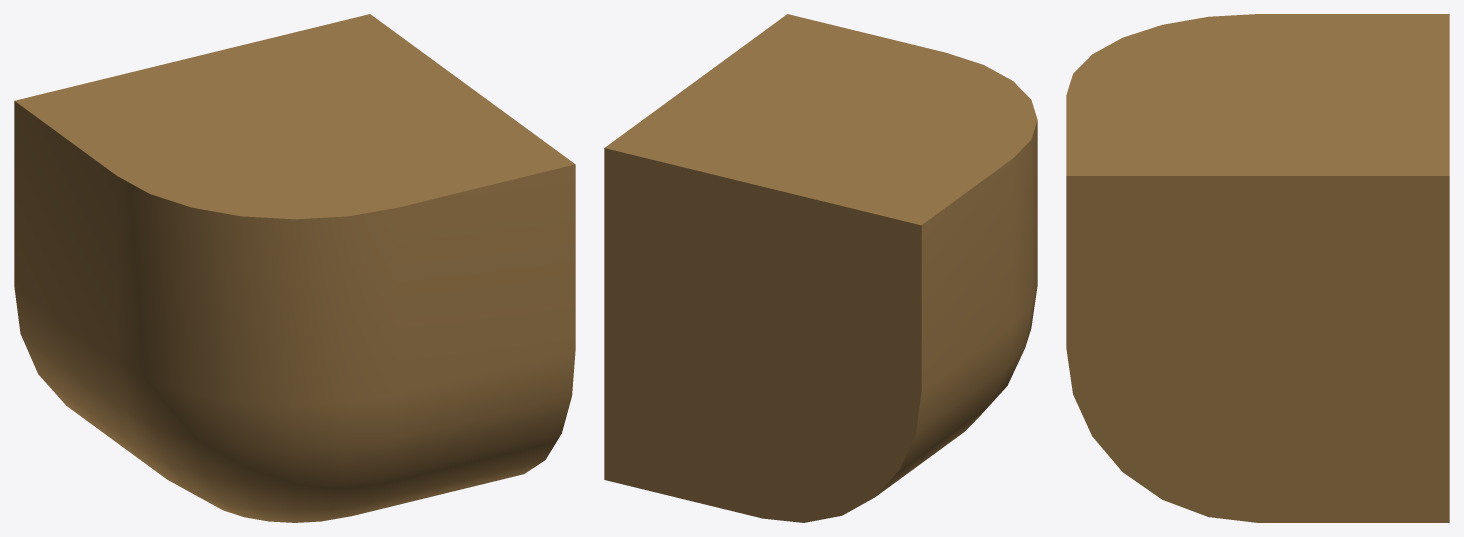
The model's file is ENDSquareGround.fbx.
The picture shows the model from 3 angles, left to right: view 1: azimuth 30°, elevation 25°; view 2: azimuth 150°, elevation 25°; view 3: azimuth 270°, elevation 25°; orthographic projection. The views are drawn at different scales.
Visible parts, largest first — view 1: Tile_Corner_Foundation_End; view 2: Tile_Corner_Foundation_End; view 3: Tile_Corner_Foundation_End.
Part boxes in pixels (x1,y1,x2,y2): Tile_Corner_Foundation_End: [14, 14, 575, 522]; Tile_Corner_Foundation_End: [604, 14, 1037, 522]; Tile_Corner_Foundation_End: [1066, 14, 1449, 522].
Size of the model in its own units: 200 by 200 by 200.
